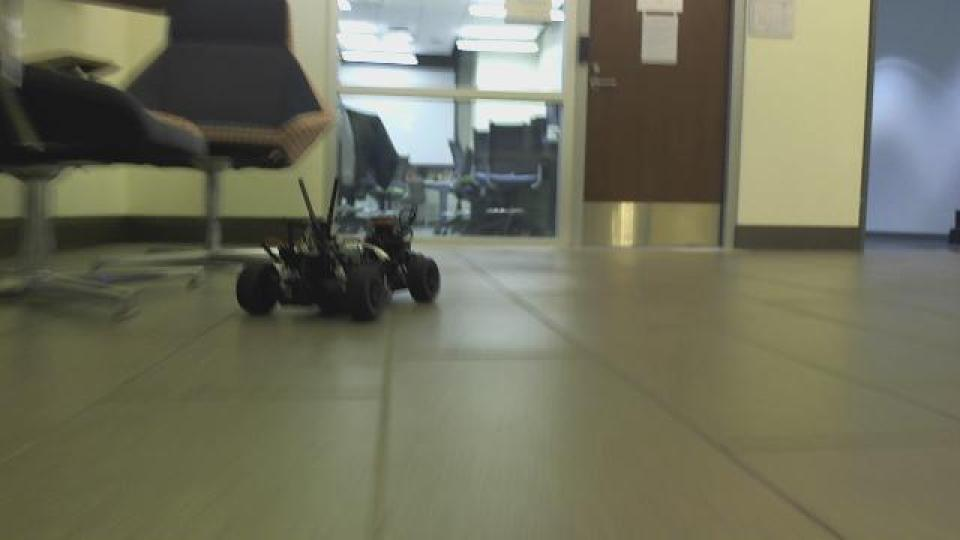car: (231, 174, 443, 324)
